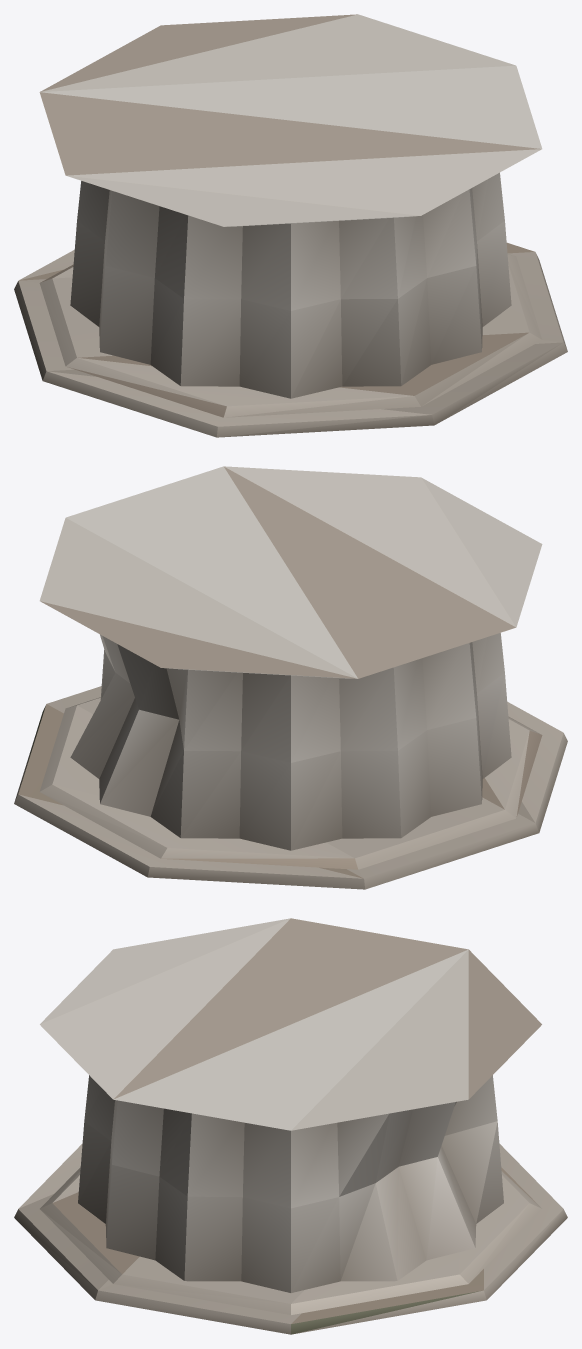
The model's file is storm_column.glb.
3 renders of one model, top to bottom at view 1: azimuth 30°, elevation 25°; view 2: azimuth 150°, elevation 25°; view 3: azimuth 270°, elevation 25°, orthographic. The views are drawn at different scales.
Visible parts, largest first — view 1: ca_storm_column; view 2: ca_storm_column; view 3: ca_storm_column.
Part boxes in pixels (box(x1,y1,x2,y2)): ca_storm_column: box(14, 14, 567, 437); ca_storm_column: box(14, 466, 567, 889); ca_storm_column: box(14, 918, 567, 1334).
Size of the model in its own units: 2.6 by 1 by 2.6.
Materials: 1 (1 with a texture image).
